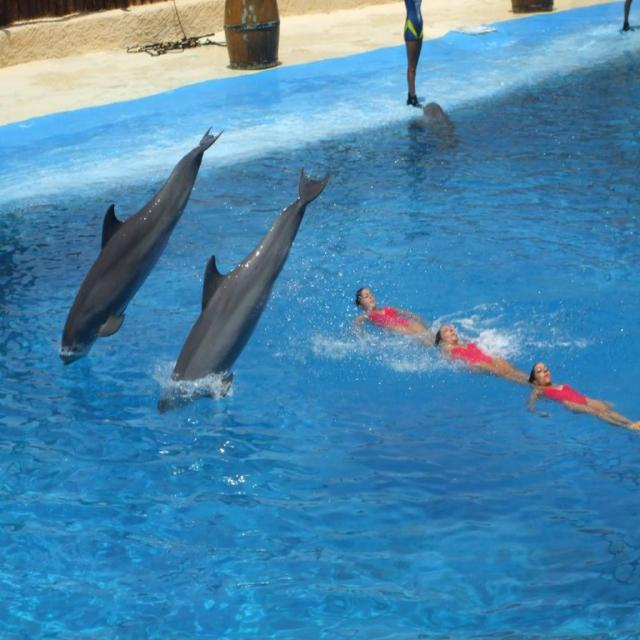nomask: (532, 361, 550, 384), (359, 287, 375, 308), (439, 324, 456, 341)
